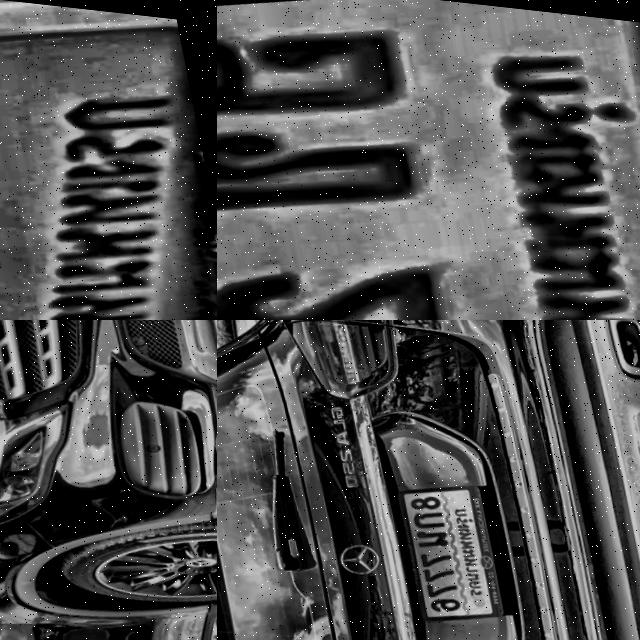license-plate: (217, 0, 640, 320), (0, 0, 217, 320), (392, 468, 507, 626)
